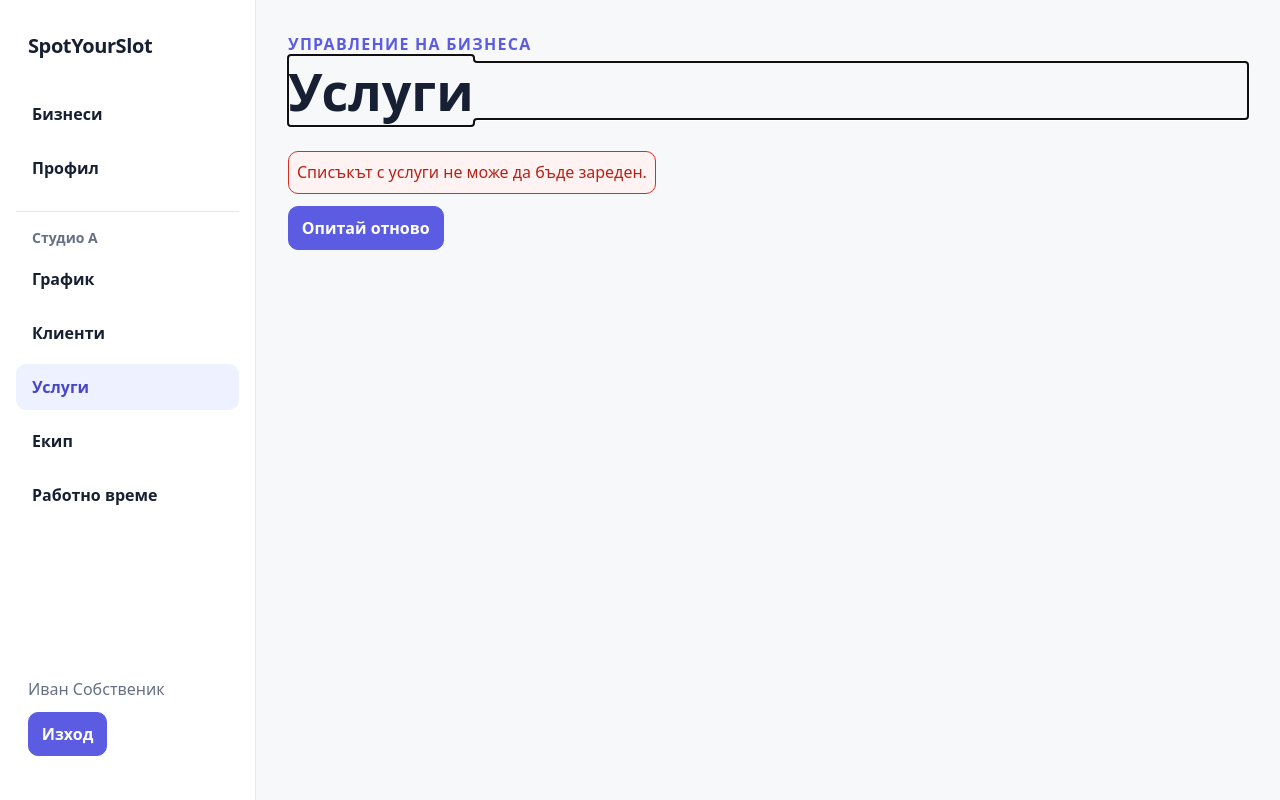
outcomes that are not a lost Business context › a network or server failure shows retryable feedback and keeps the selected Business
Check: the message reads "Списъкът с услуги не може да бъде зареден.", box top-left (297, 161), bottom-right (647, 183)
Check: the element "Студио А" is shown, box top-left (16, 211), bottom-right (239, 518)
Click the button "Опитай отново".
click(366, 228)  # box top-left (288, 206), bottom-right (444, 250)
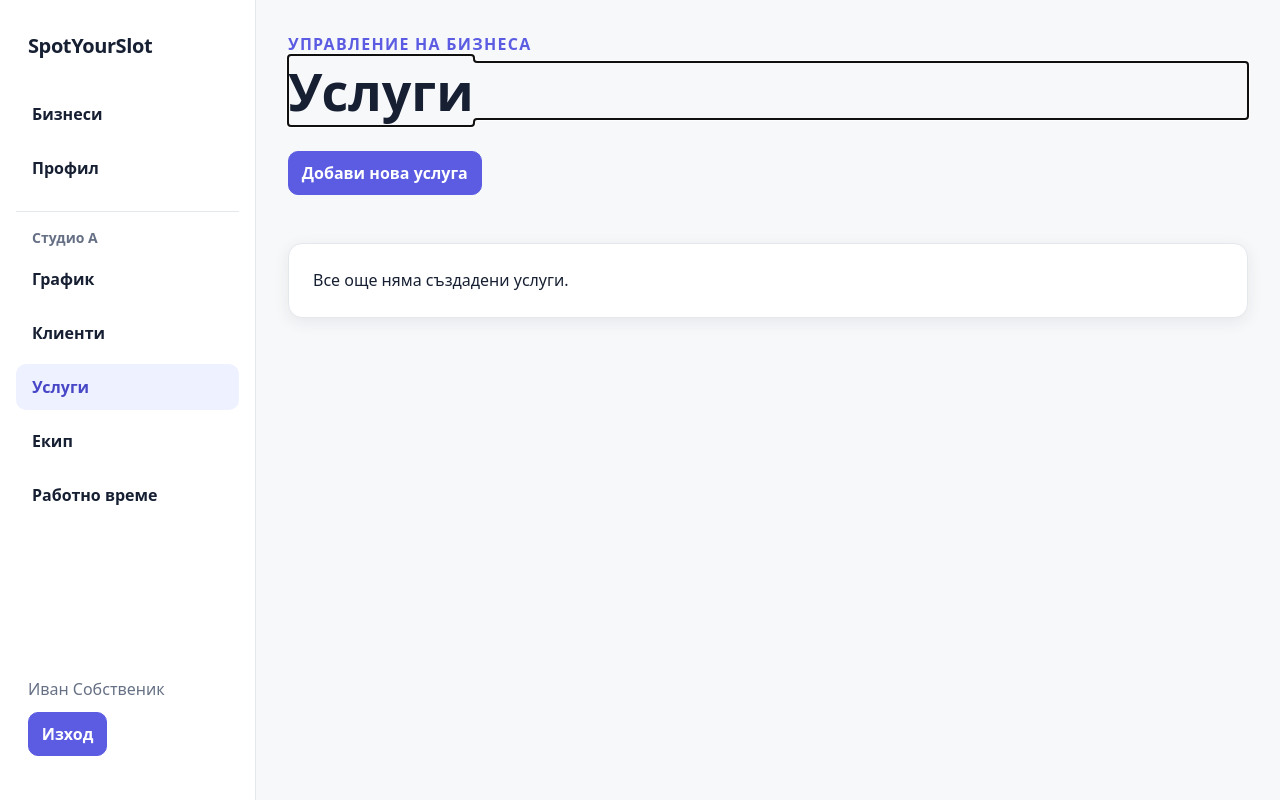
Check: the text "Все още няма създадени услуги." is shown, box top-left (288, 243), bottom-right (1248, 318)
